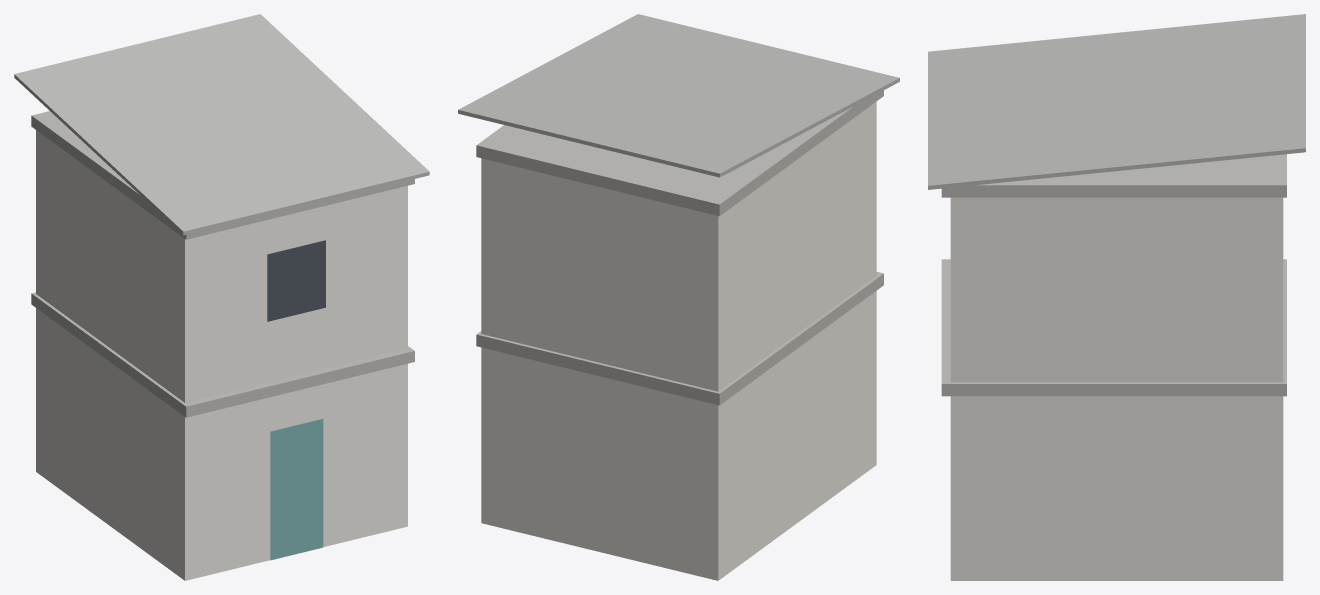
3 renders of one model, left to right at view 1: azimuth 30°, elevation 25°; view 2: azimuth 150°, elevation 25°; view 3: azimuth 270°, elevation 25°, orthographic. The views are drawn at different scales.
Visible parts, largest first — view 1: fv_h12.lod1; view 2: fv_h12.lod1; view 3: fv_h12.lod1.
Boxes of the visible parts, <box> form: fv_h12.lod1: <box>14,14,429,580</box>; fv_h12.lod1: <box>458,14,899,580</box>; fv_h12.lod1: <box>928,14,1305,580</box>.
Size of the model in its own units: 4.2 by 6.41 by 5.
